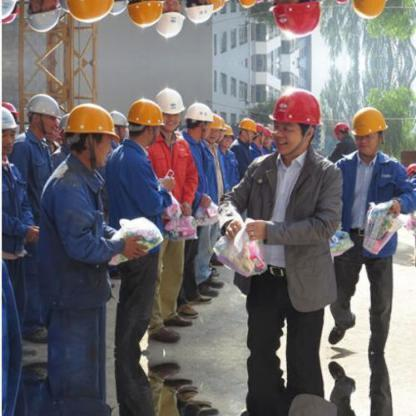helmet: (265, 86, 326, 131), (60, 101, 121, 144), (123, 96, 175, 131), (348, 103, 392, 143), (26, 94, 64, 122), (156, 83, 187, 115), (186, 96, 217, 124), (238, 114, 260, 135), (329, 119, 348, 140)
